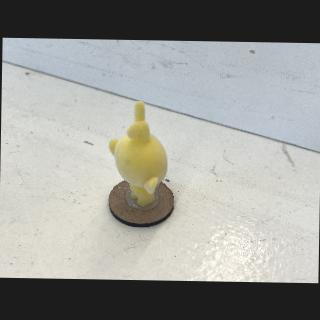teletubby: (108, 100, 167, 206)
